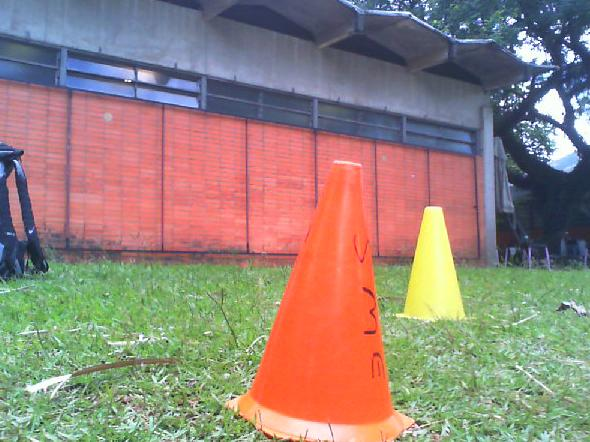0 cone: (225, 161, 419, 442), (394, 206, 478, 323)
